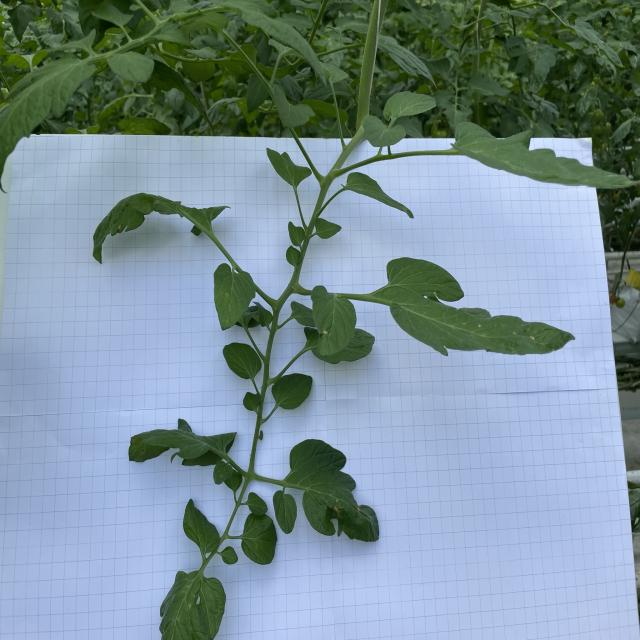Healthy Leaf: (0, 54, 96, 195), (450, 121, 640, 189), (220, 0, 328, 88), (141, 55, 215, 136), (128, 418, 237, 463), (341, 171, 414, 219), (377, 39, 438, 91), (214, 262, 255, 332), (570, 17, 624, 69), (182, 498, 221, 554), (272, 82, 316, 129), (265, 145, 313, 187), (241, 512, 277, 566), (383, 90, 437, 122), (197, 96, 241, 135), (108, 50, 156, 84), (272, 372, 312, 411), (222, 342, 262, 379), (362, 115, 406, 148), (146, 22, 197, 50), (92, 0, 134, 28), (8, 3, 36, 43), (273, 490, 297, 535), (246, 73, 270, 114), (315, 216, 342, 240), (247, 491, 268, 516), (288, 221, 305, 247)
